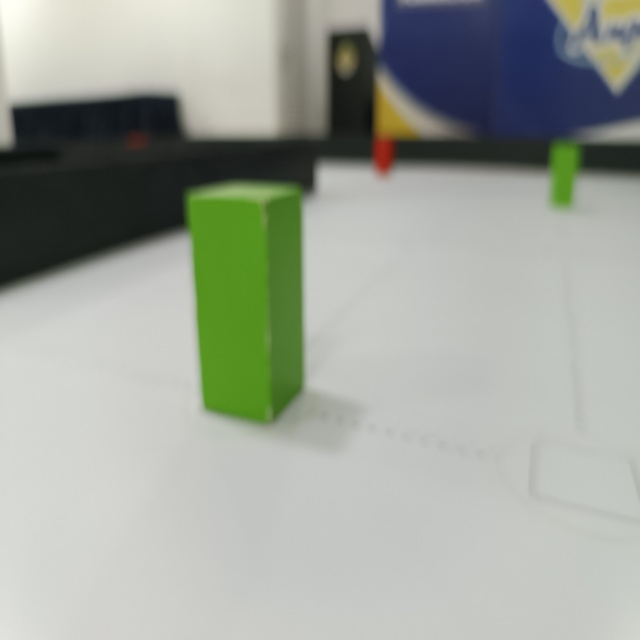green rectangular prism: (184, 172, 312, 431), (546, 142, 585, 212)
red rectangular prism: (369, 137, 396, 176)
